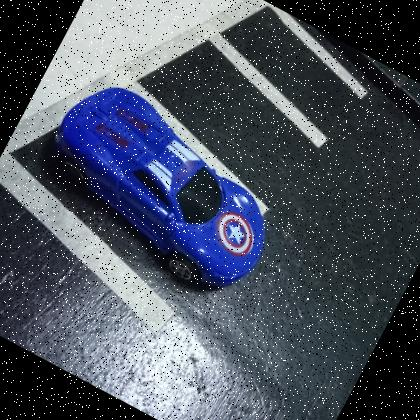Car: (52, 88, 265, 292)
